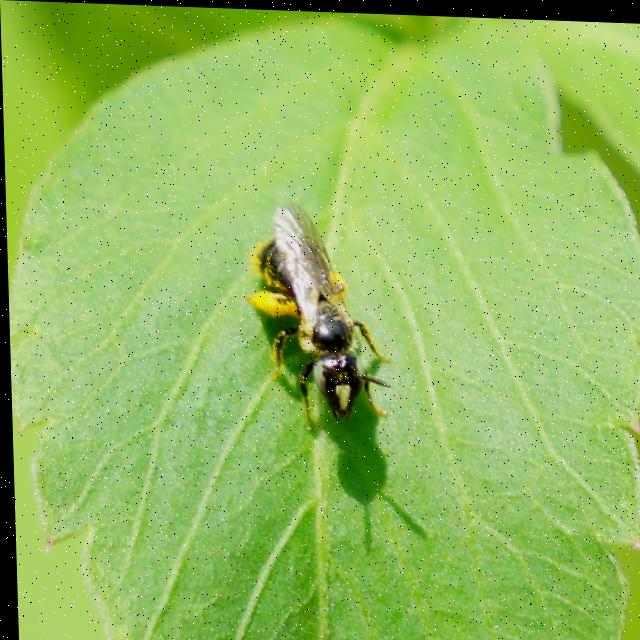Braunsapis: (236, 200, 402, 449)
